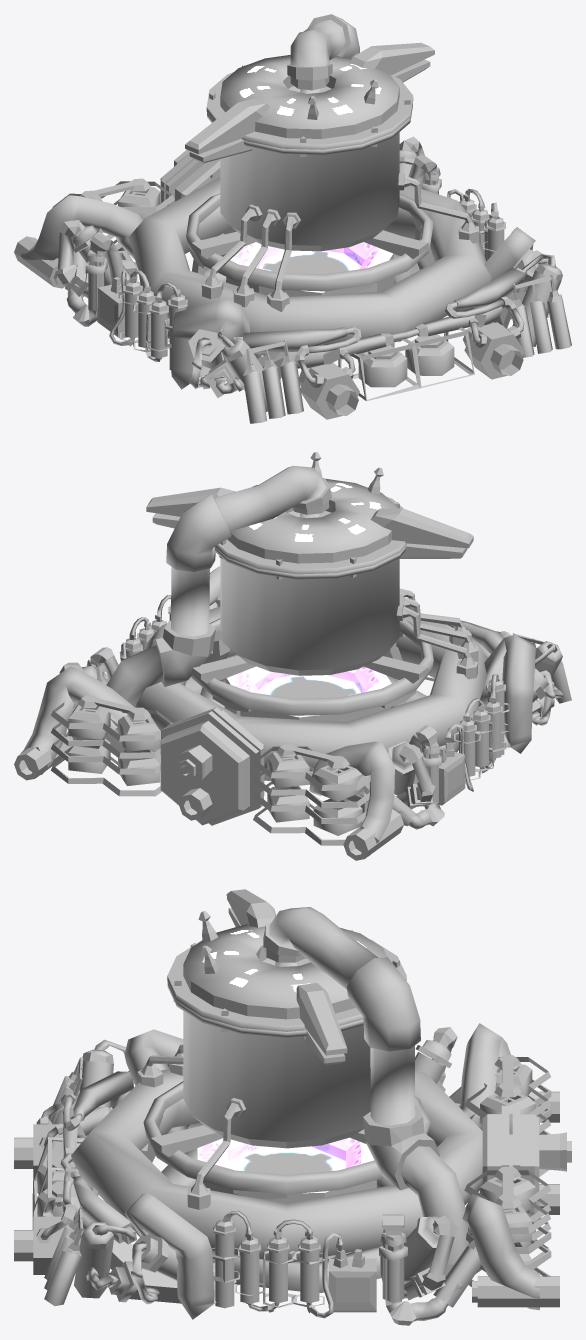
The model's file is distillery-1.gltf.
The picture shows the model from 3 angles, top to bottom: view 1: azimuth 30°, elevation 25°; view 2: azimuth 150°, elevation 25°; view 3: azimuth 270°, elevation 25°; orthographic projection. The views are drawn at different scales.
Parts seen in each view (by area): view 1: Cube.003; view 2: Cube.003; view 3: Cube.003.
Boxes of the visible parts, x1=… form: Cube.003: x1=14, y1=14, x2=571, y2=423; Cube.003: x1=14, y1=452, x2=571, y2=860; Cube.003: x1=14, y1=889, x2=571, y2=1325.
Size of the model in its own units: 45.68 by 33.76 by 51.09.
